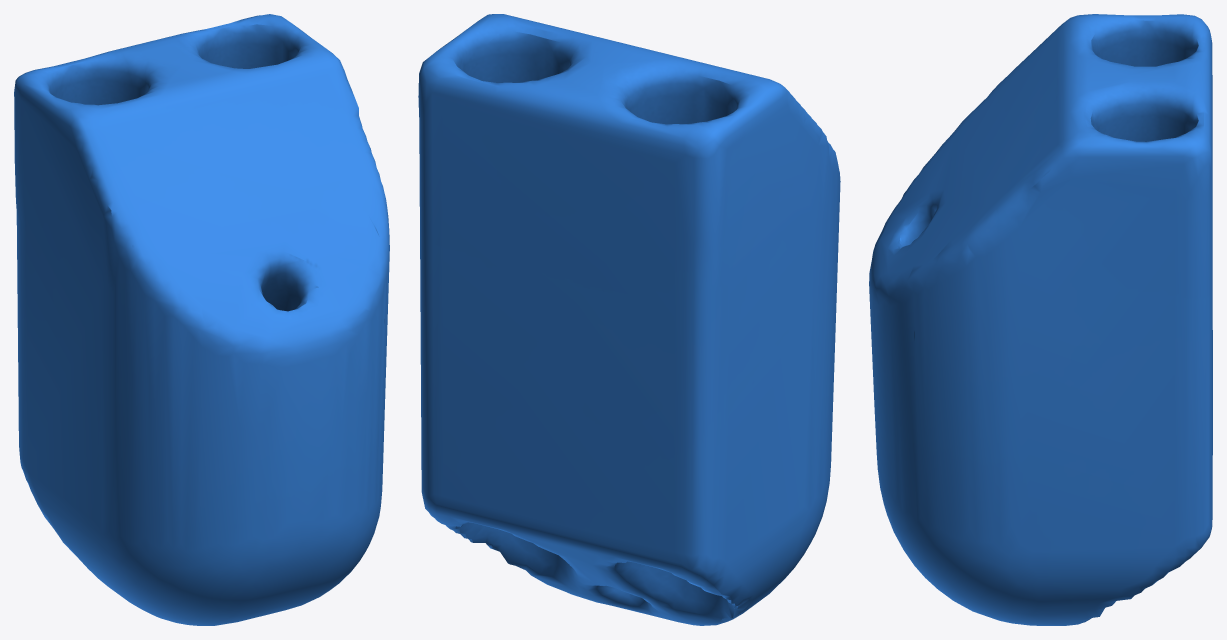
The model's file is right_finger2_upper.glb.
3 views of the same model, side by side, from view 1: azimuth 30°, elevation 25°; view 2: azimuth 150°, elevation 25°; view 3: azimuth 270°, elevation 25° (orthographic). The views are drawn at different scales.
Parts seen in each view (by area): view 1: right_finger2_upper; view 2: right_finger2_upper; view 3: right_finger2_upper.
Boxes of the visible parts, left/top/right/bottom form: right_finger2_upper: left=14, top=14, right=389, bottom=625; right_finger2_upper: left=418, top=14, right=840, bottom=625; right_finger2_upper: left=869, top=14, right=1212, bottom=625.
Bounding box in the file's own units: 0.0113 × 0.0205 × 0.0121.
1 material, 1 textured.
